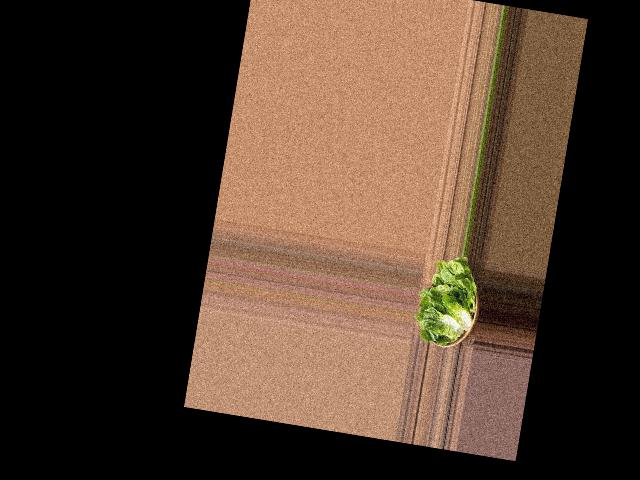lettuce: (413, 252, 486, 355)
